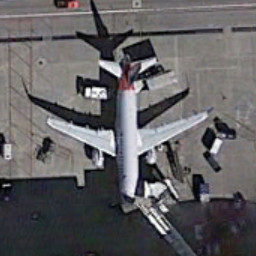Airplane: (40, 45, 217, 223)
